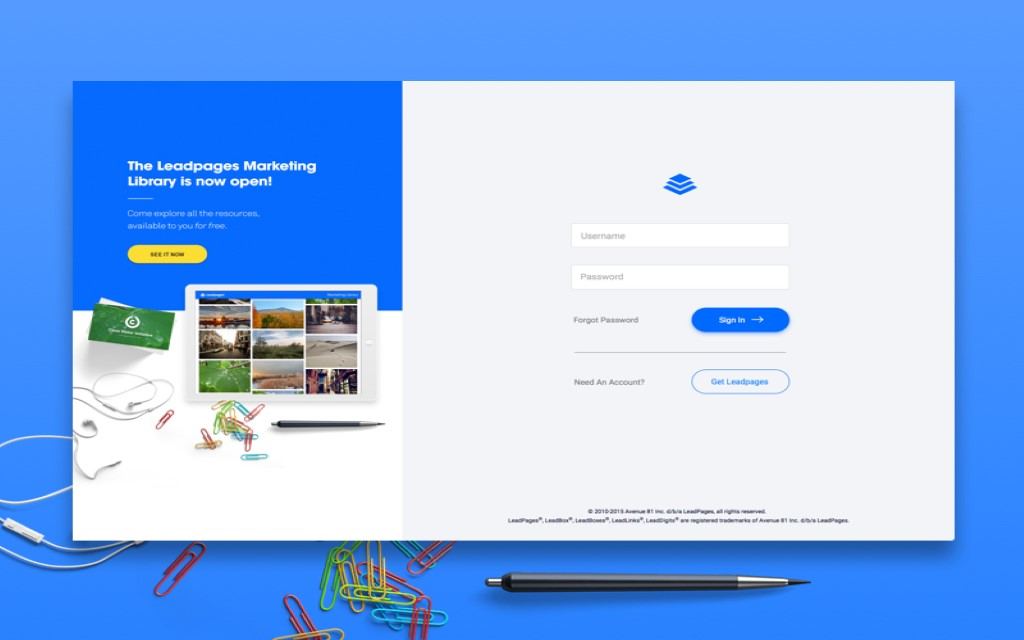button: (692, 307, 790, 332), (692, 370, 792, 392)
label_Username: (579, 229, 626, 243)
label_password: (581, 270, 627, 282)
textbox: (571, 222, 789, 247), (573, 265, 790, 289)
textbox_Password: (573, 264, 791, 291)
textbox_username: (572, 221, 790, 248)
